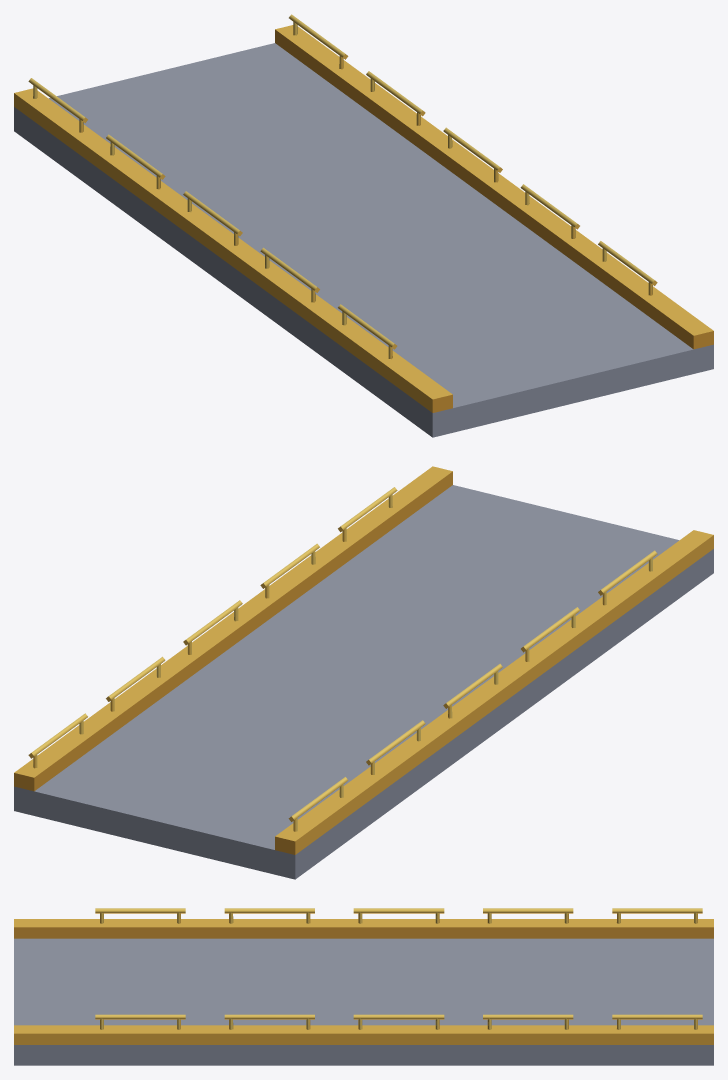
The model's file is squidgame_props_road5.fbx.
The picture shows the model from 3 angles, top to bottom: view 1: azimuth 30°, elevation 25°; view 2: azimuth 150°, elevation 25°; view 3: azimuth 270°, elevation 25°; orthographic projection. The views are drawn at different scales.
Visible parts, largest first — view 1: squidgame_props_road5; view 2: squidgame_props_road5; view 3: squidgame_props_road5.
Boxes of the visible parts, x1,y1,x2,y2 form: squidgame_props_road5: (14, 14, 713, 437); squidgame_props_road5: (14, 466, 713, 879); squidgame_props_road5: (14, 908, 713, 1065).
Size of the model in its own units: 3.46 by 0.6578 by 8.93.
